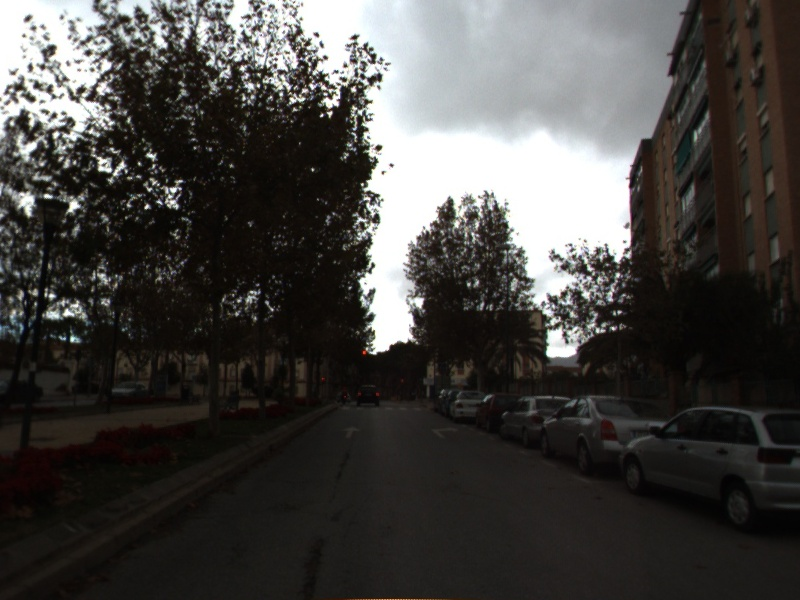RIGHT: (429, 424, 461, 442)
STRAIGHT: (338, 424, 364, 441)
